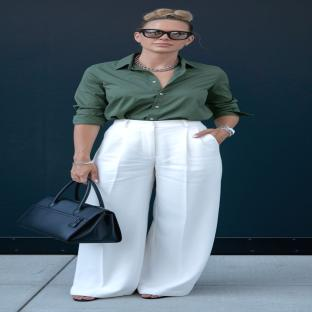Human: (71, 9, 250, 301)
